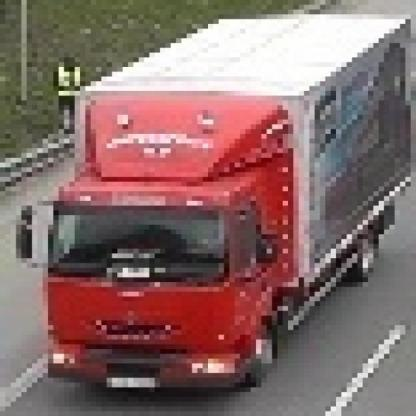truck: (22, 11, 416, 388)
